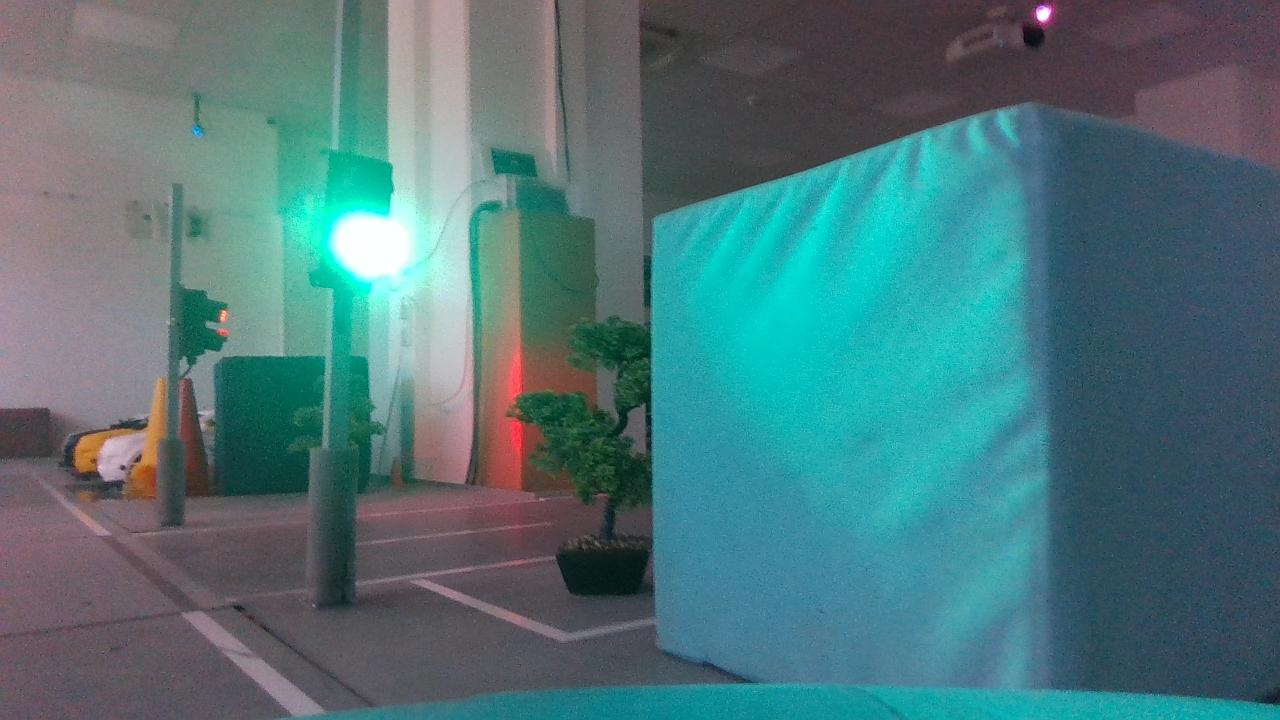traffic_light_green: (273, 137, 413, 309)
